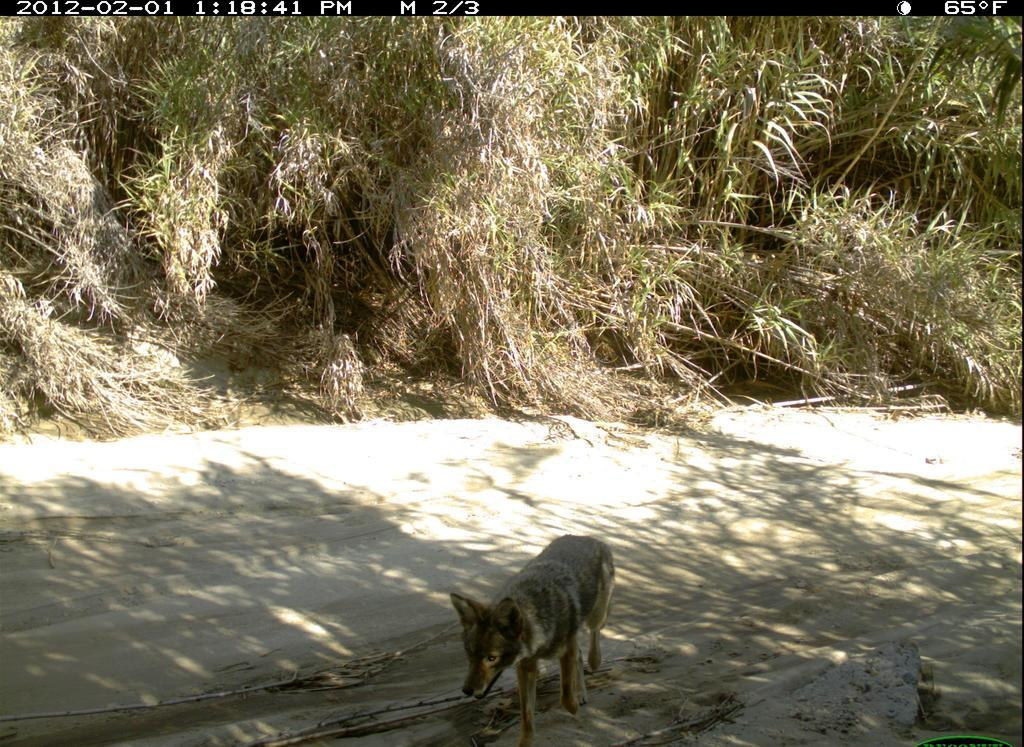coyote: (449, 532, 624, 747)
